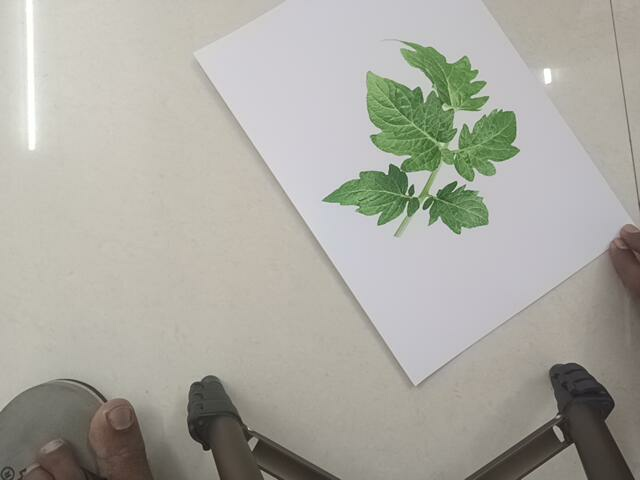Tomamto_Leaf_Healthy: (311, 28, 533, 250)
